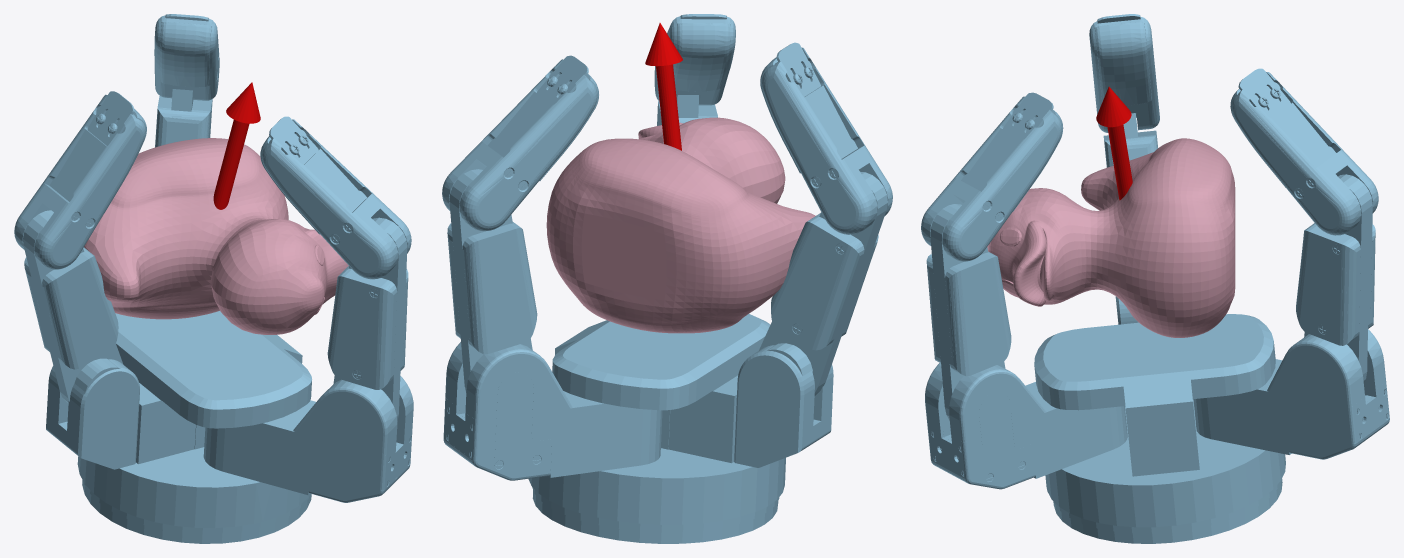
3 renders of one model, left to right at view 1: azimuth 30°, elevation 25°; view 2: azimuth 150°, elevation 25°; view 3: azimuth 270°, elevation 25°, orthographic. The views are drawn at different scales.
Parts seen in each view (by area): view 1: world, rubber_duck.stl; view 2: world, rubber_duck.stl; view 3: world, rubber_duck.stl.
Part boxes in pixels (<box>): world: <box>14,14,413,543</box>; rubber_duck.stl: <box>84,138,348,334</box>; world: <box>442,14,892,543</box>; rubber_duck.stl: <box>546,117,815,333</box>; world: <box>921,14,1389,543</box>; rubber_duck.stl: <box>987,138,1235,337</box>.
Bounding box in the file's own units: 0.1298 × 0.1812 × 0.1733.
